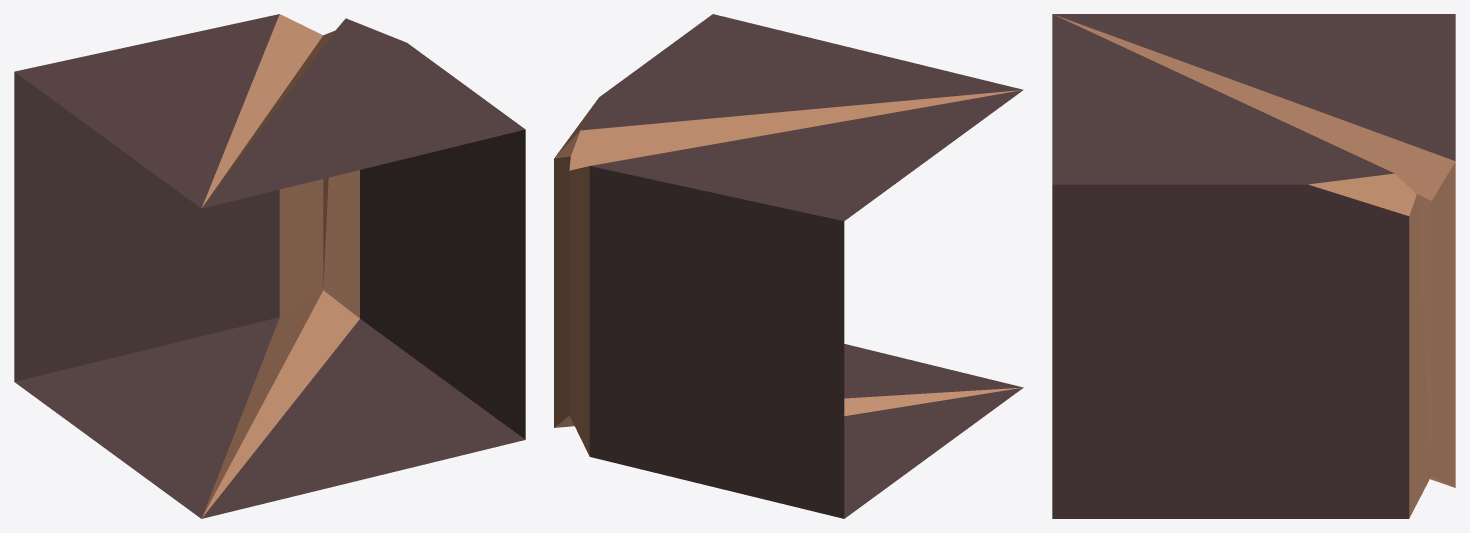
Rendered from builder_59.FBX.
3 views of the same model, side by side, from view 1: azimuth 30°, elevation 25°; view 2: azimuth 150°, elevation 25°; view 3: azimuth 270°, elevation 25° (orthographic). The views are drawn at different scales.
Parts seen in each view (by area): view 1: builder_59; view 2: builder_59; view 3: builder_59.
Boxes of the visible parts, x1=… form: builder_59: x1=14, y1=14, x2=525, y2=518; builder_59: x1=554, y1=14, x2=1023, y2=518; builder_59: x1=1052, y1=14, x2=1455, y2=518.
Bounding box in the file's own units: 9.05 × 8.28 × 9.05.
